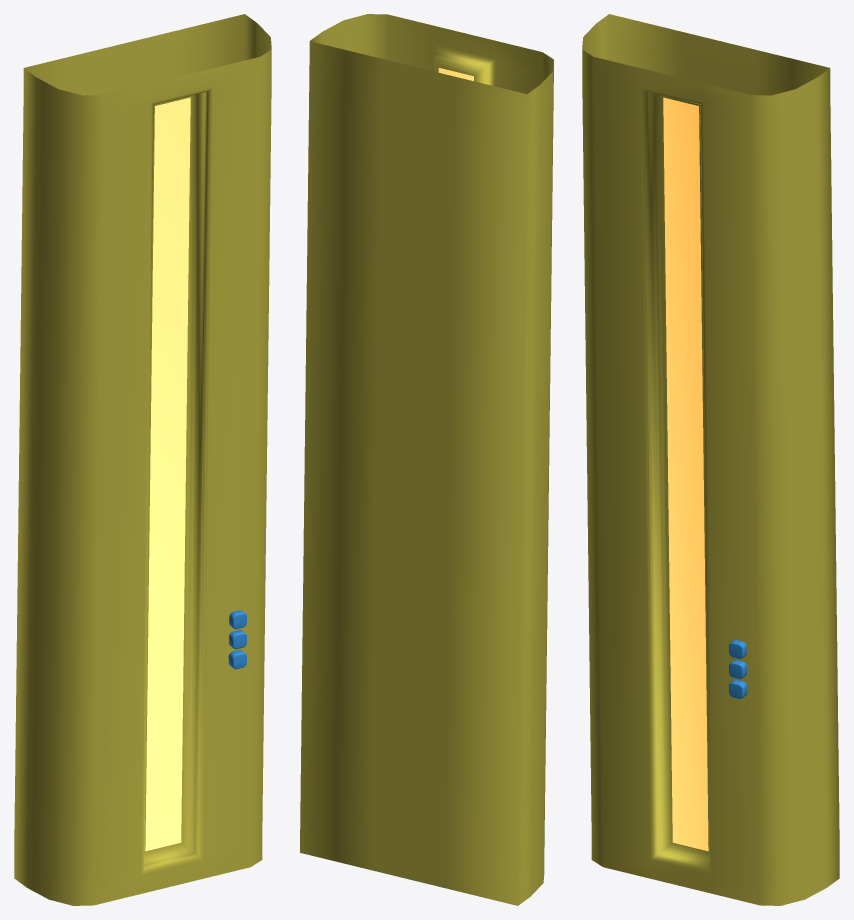
File: vertical light v1.glb
3 renders of one model, left to right at view 1: azimuth 30°, elevation 25°; view 2: azimuth 150°, elevation 25°; view 3: azimuth 330°, elevation 25°, orthographic.
Parts seen in each view (by area): view 1: floor_walls.001; view 2: floor_walls.001; view 3: floor_walls.001.
Boxes of the visible parts, box(x1,y1,x2,y2) form: floor_walls.001: box(14, 14, 271, 905); floor_walls.001: box(300, 14, 553, 905); floor_walls.001: box(582, 14, 839, 905).
Size of the model in its own units: 0.7034 by 2.48 by 0.315.
